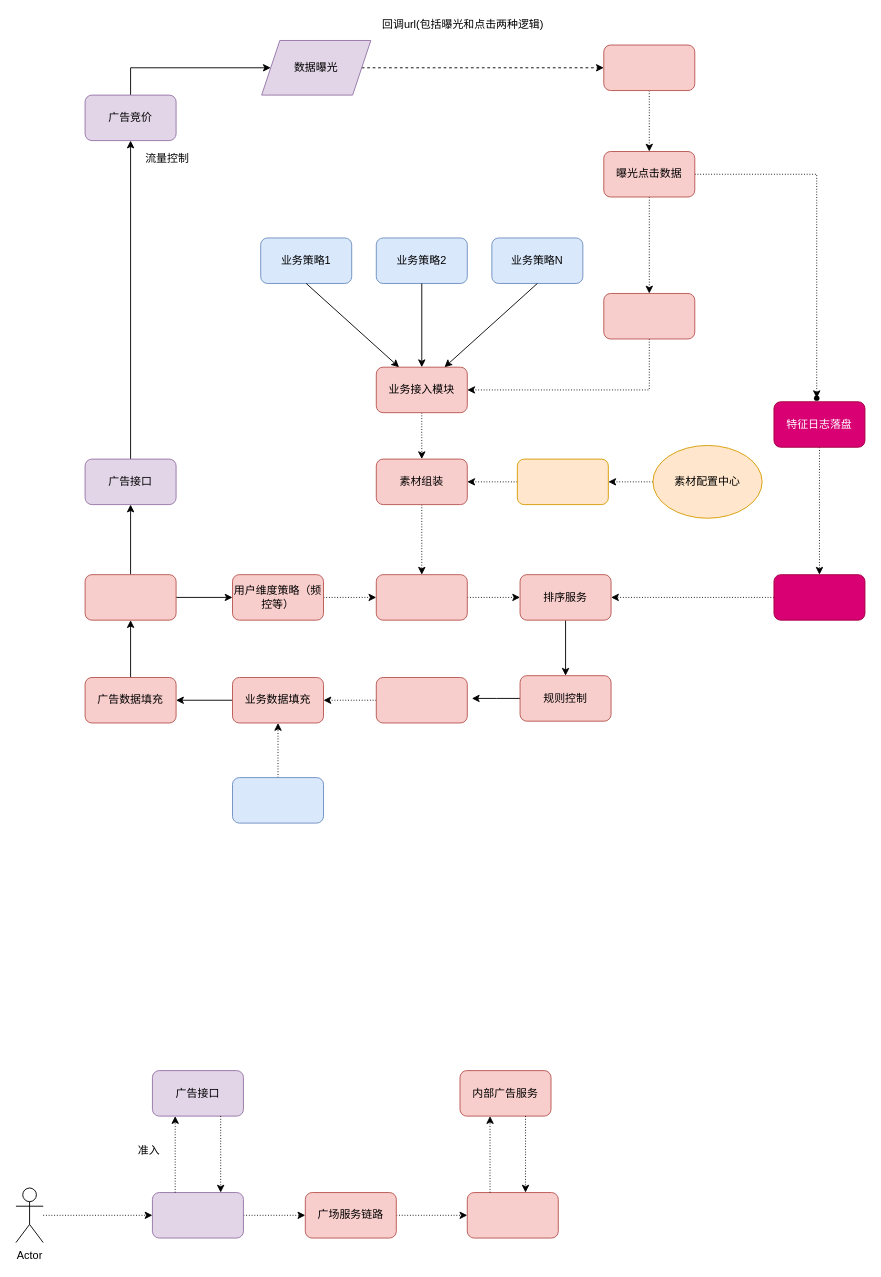
This 881x1277 diagram has some shape labels left out. Here are the shapes that lost their labels. From the top down, the centre of each, then its label:
At pixel 649 67: "回调服务".
At pixel 649 316: "去重、频控".
At pixel 562 481: "素材筛选策略".
At pixel 130 597: "中台服务接口".
At pixel 421 597: "召回服务".
At pixel 819 597: "模型训练".
At pixel 421 700: "混排逻辑".
At pixel 278 800: "业务服务".
At pixel 197 1215: "C端接口".
At pixel 512 1215: "请求、混排处理".
